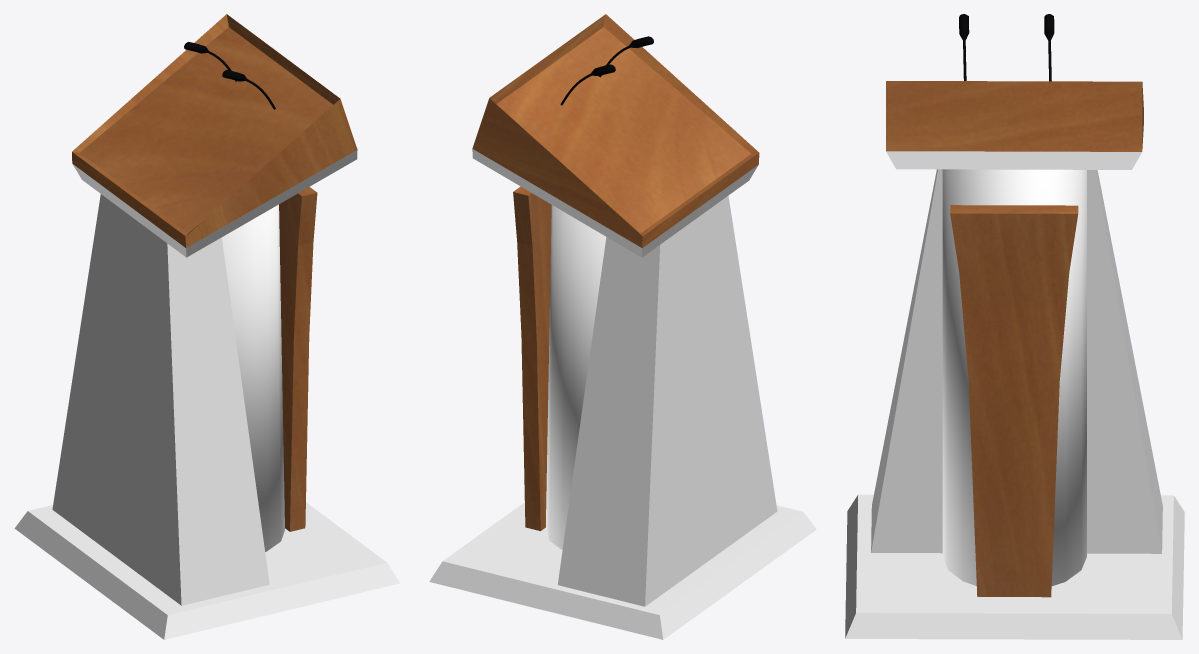
Rendered from AIR0210016.fbx.
The picture shows the model from 3 angles, left to right: view 1: azimuth 30°, elevation 25°; view 2: azimuth 150°, elevation 25°; view 3: azimuth 270°, elevation 25°; orthographic projection. The views are drawn at different scales.
Visible parts, largest first — view 1: smAIR0210016; view 2: smAIR0210016; view 3: smAIR0210016.
Part boxes in pixels (x1=…): smAIR0210016: x1=14, y1=14, x2=399, y2=639; smAIR0210016: x1=429, y1=14, x2=816, y2=639; smAIR0210016: x1=845, y1=14, x2=1184, y2=639.
Size of the model in its own units: 65.79 by 133 by 73.31.
1 material, 1 textured.
